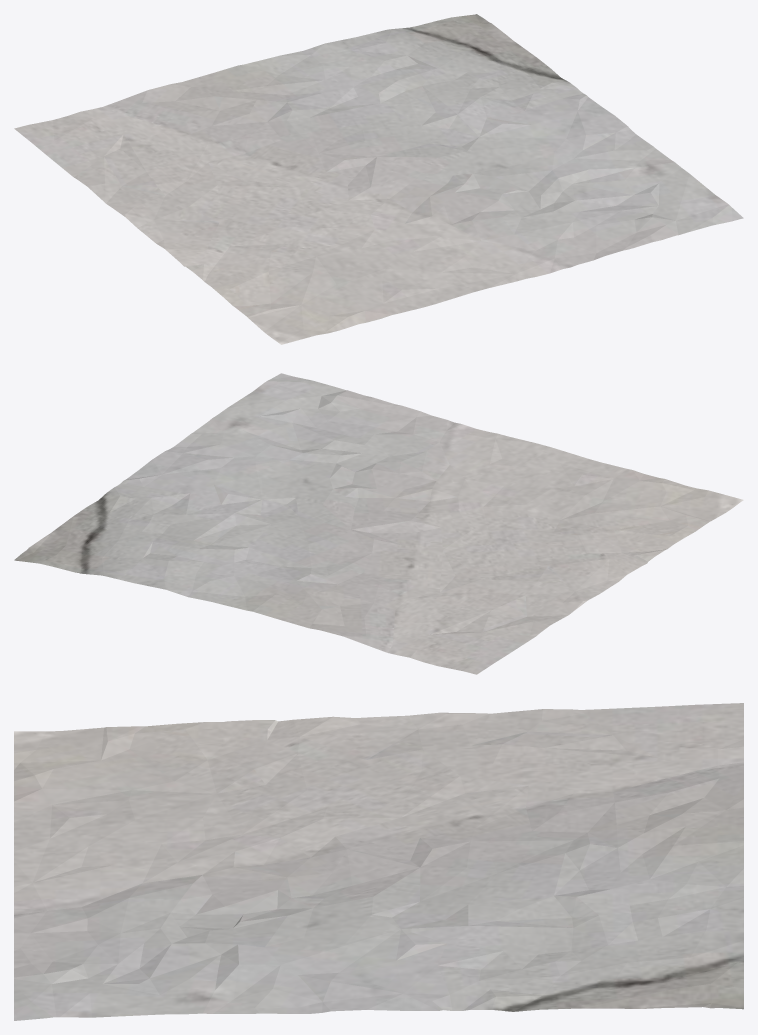
3 renders of one model, top to bottom at view 1: azimuth 30°, elevation 25°; view 2: azimuth 150°, elevation 25°; view 3: azimuth 270°, elevation 25°, orthographic. The views are drawn at different scales.
Bounding box in the file's own units: 2.95 × 0.1827 × 2.95.
Materials: 2 (2 with a texture image).
